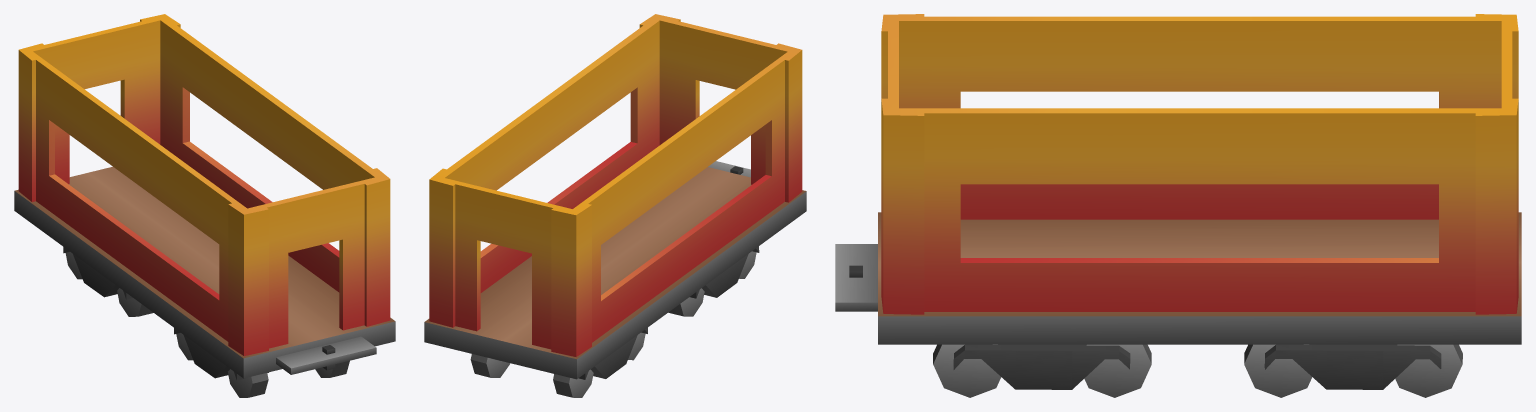
File: Wagon_LowHeat.fbx
3 views of the same model, side by side, from view 1: azimuth 30°, elevation 25°; view 2: azimuth 150°, elevation 25°; view 3: azimuth 270°, elevation 25° (orthographic). The views are drawn at different scales.
Parts seen in each view (by area): view 1: Body.002, Floor; view 2: Body.002, Floor; view 3: Body.002, Floor.
Part boxes in pixels (box(x1,y1,x2,y2)): Body.002: box(18, 14, 390, 356); Floor: box(14, 166, 395, 397); Body.002: box(429, 14, 802, 356); Floor: box(424, 161, 806, 397); Body.002: box(881, 14, 1518, 314); Floor: box(835, 212, 1521, 397).
Bounding box in the file's own units: 341 × 455 × 949.
